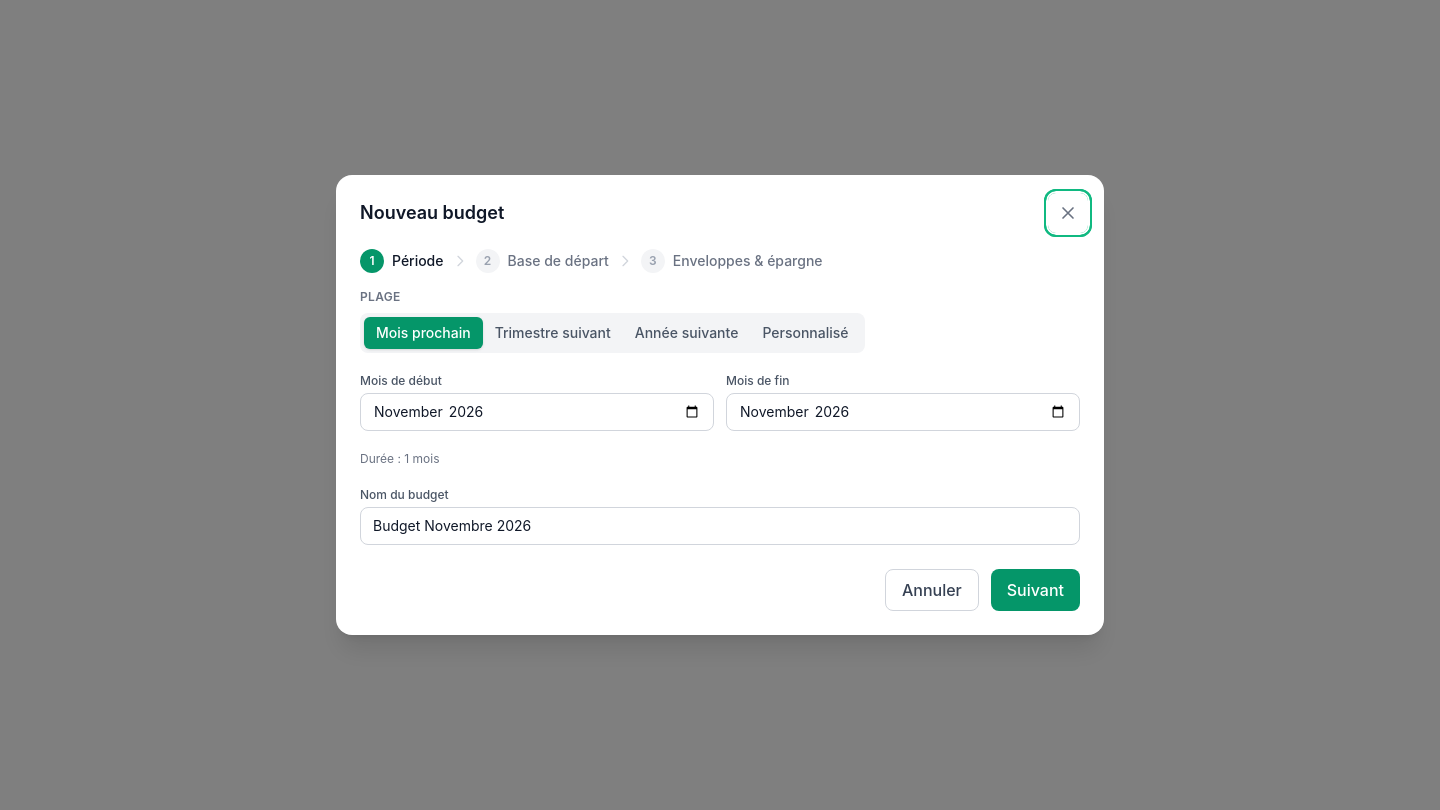
Test: NewBudgetPlanModal › displays the deducted reimbursement amounts inline so the toggle effect is visible
Click the button with test id "next-step-button" at (1035, 590), box [991,569,1080,611]
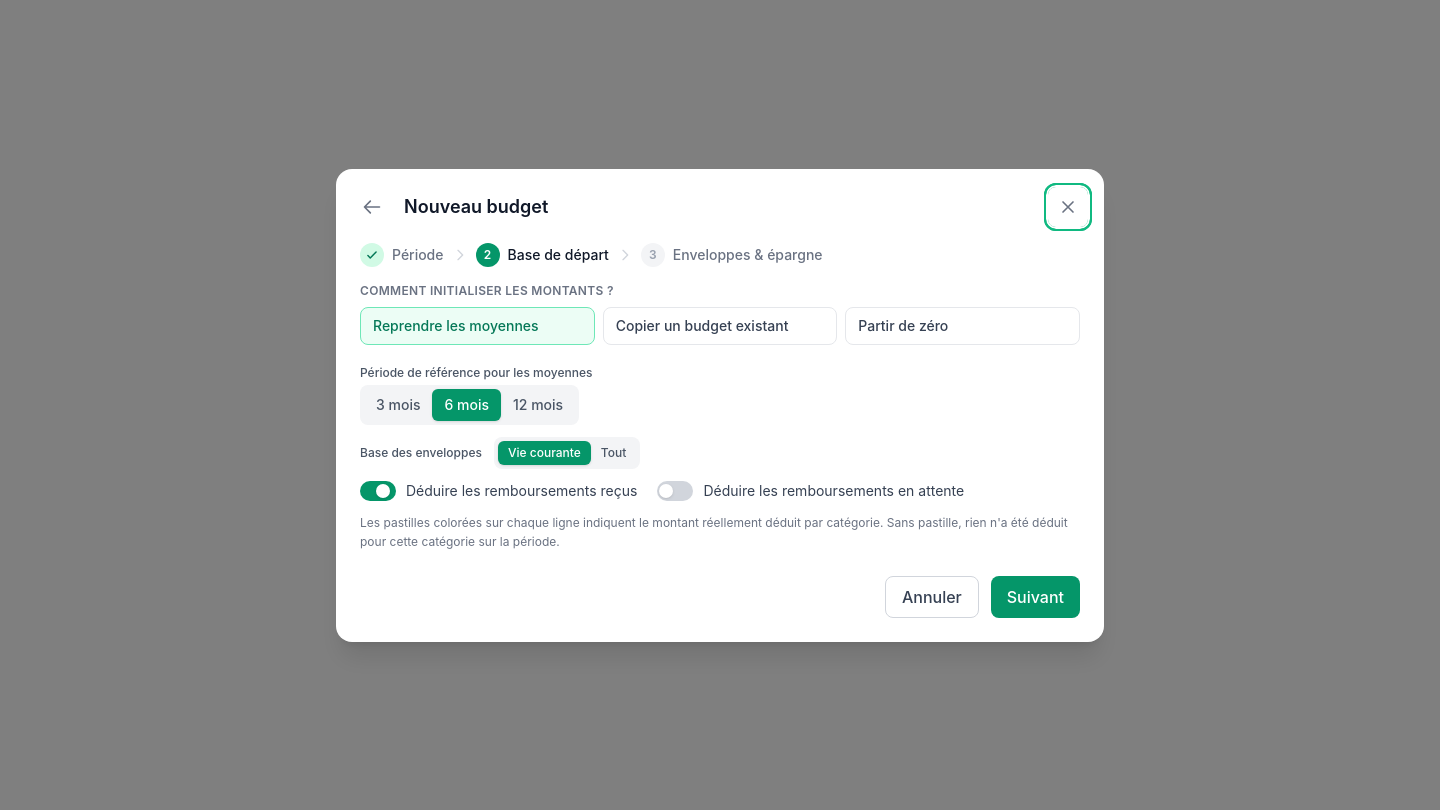
Click the button with test id "next-step-button" at (1035, 596), box [991,576,1080,618]
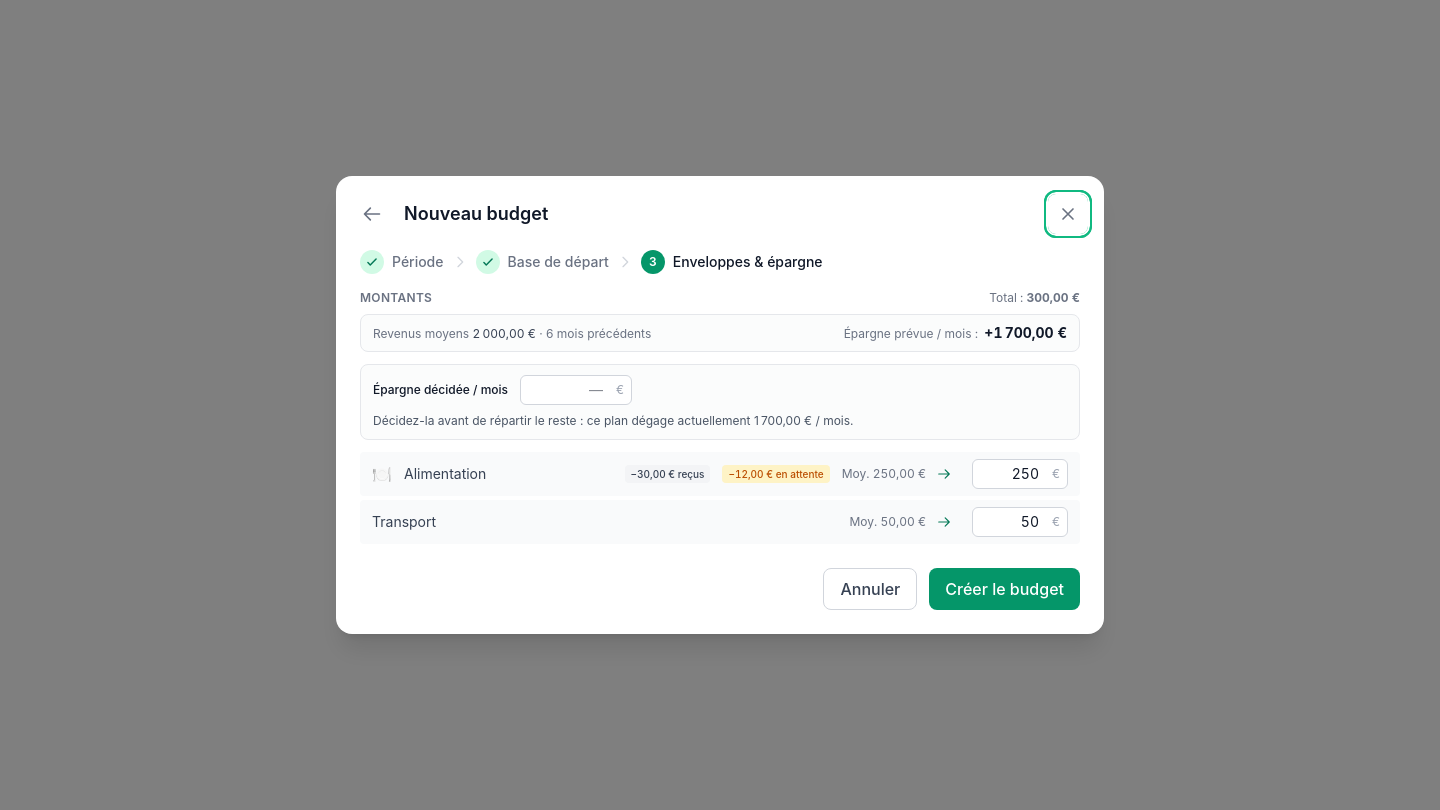
Check: the text with test id "preview-reimbursement-Alimentation" shows "30", box [631,468,704,480]
Check: the text with test id "preview-pending-Alimentation" shows "12", box [728,468,824,480]
